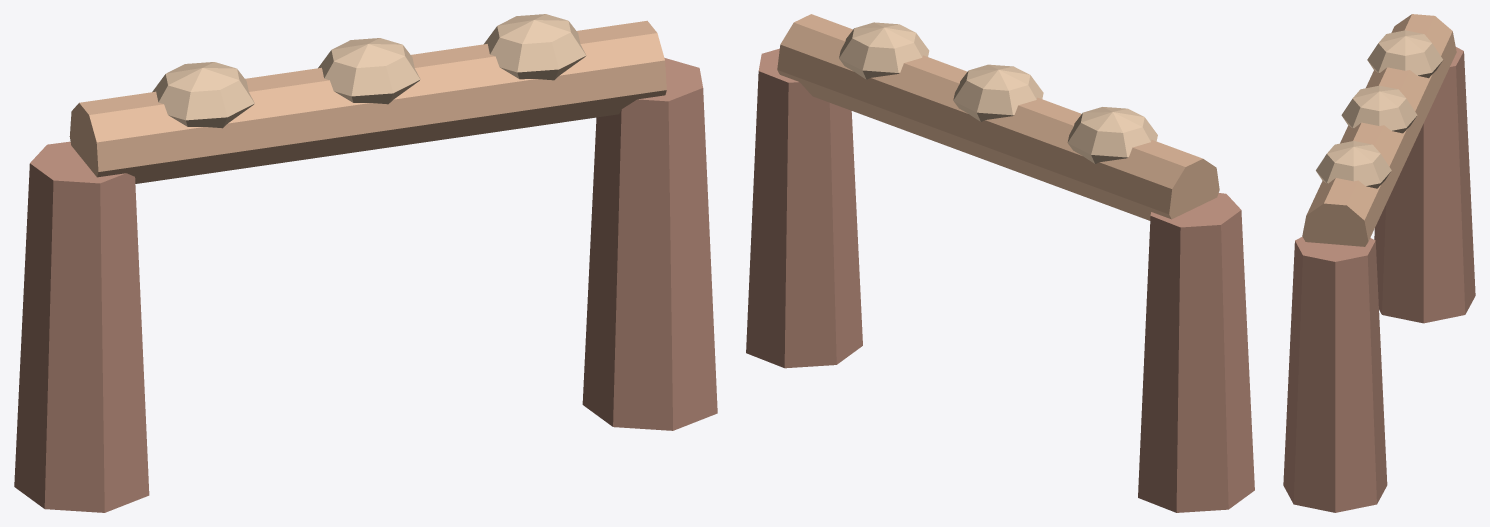
Rendered from arco_natural.glb.
The picture shows the model from 3 angles, left to right: view 1: azimuth 30°, elevation 25°; view 2: azimuth 150°, elevation 25°; view 3: azimuth 270°, elevation 25°; orthographic projection. The views are drawn at different scales.
Parts seen in each view (by area): view 1: arco_natural; view 2: arco_natural; view 3: arco_natural.
Boxes of the visible parts, x1,y1,x2,y2 form: arco_natural: [14, 14, 717, 512]; arco_natural: [746, 14, 1254, 512]; arco_natural: [1283, 14, 1475, 512].
Size of the model in its own units: 11.55 by 7.05 by 4.04.
